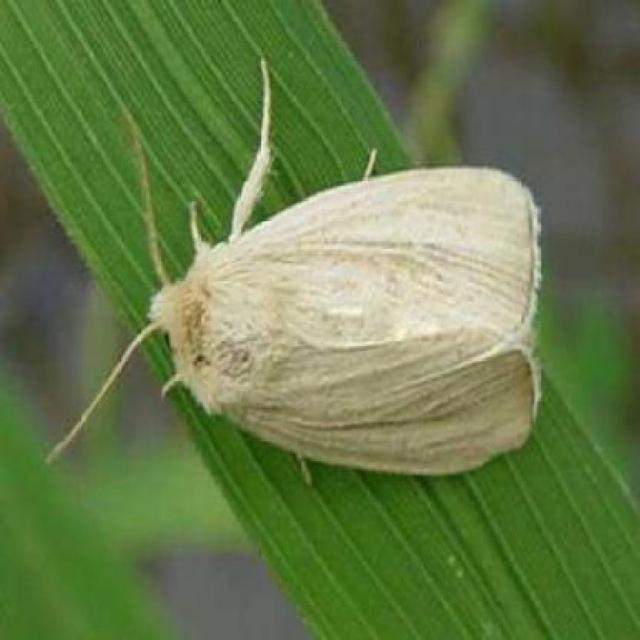stem-borer: (84, 103, 547, 491)
